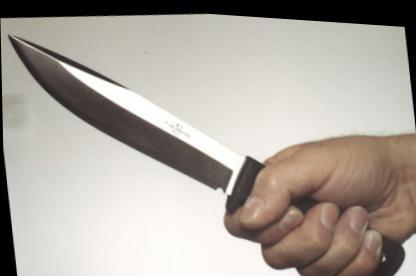knife: (4, 0, 411, 273)
